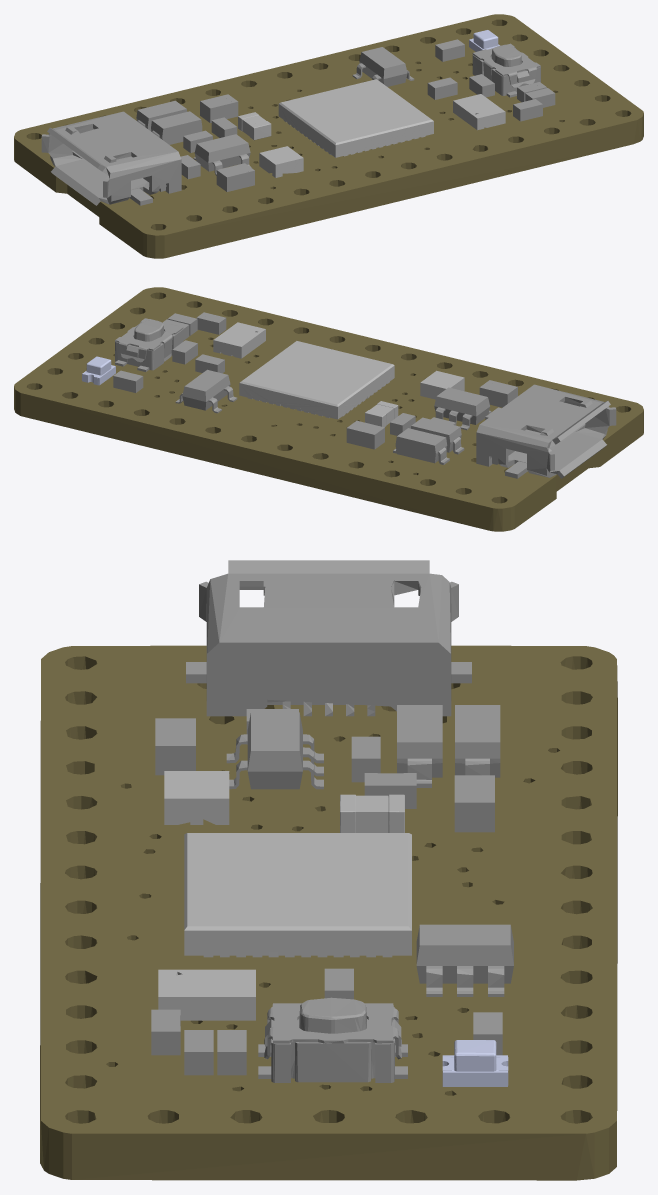
Rendered from adafruit-3800-itsybitsy-m4.glb.
3 views of the same model, one above another, from view 1: azimuth 30°, elevation 25°; view 2: azimuth 150°, elevation 25°; view 3: azimuth 270°, elevation 25° (orthographic). The views are drawn at different scales.
Parts seen in each view (by area): view 1: colour 1, colour 2, colour 4, colour 3; view 2: colour 1, colour 2, colour 4, colour 3; view 3: colour 1, colour 2, colour 4, colour 3.
Part boxes in pixels (x1,y1,x2,y2): colour 1: (14, 14, 643, 258); colour 2: (41, 39, 555, 205); colour 4: (238, 79, 505, 177); colour 3: (469, 30, 499, 51); colour 1: (14, 287, 643, 531); colour 2: (113, 312, 616, 478); colour 4: (213, 322, 464, 427); colour 3: (82, 356, 115, 385); colour 1: (40, 645, 617, 1180); colour 2: (151, 560, 513, 1082); colour 4: (158, 771, 411, 1020); colour 3: (442, 1040, 508, 1086).
Size of the model in its own units: 0.036 by 0.00434 by 0.0178.
